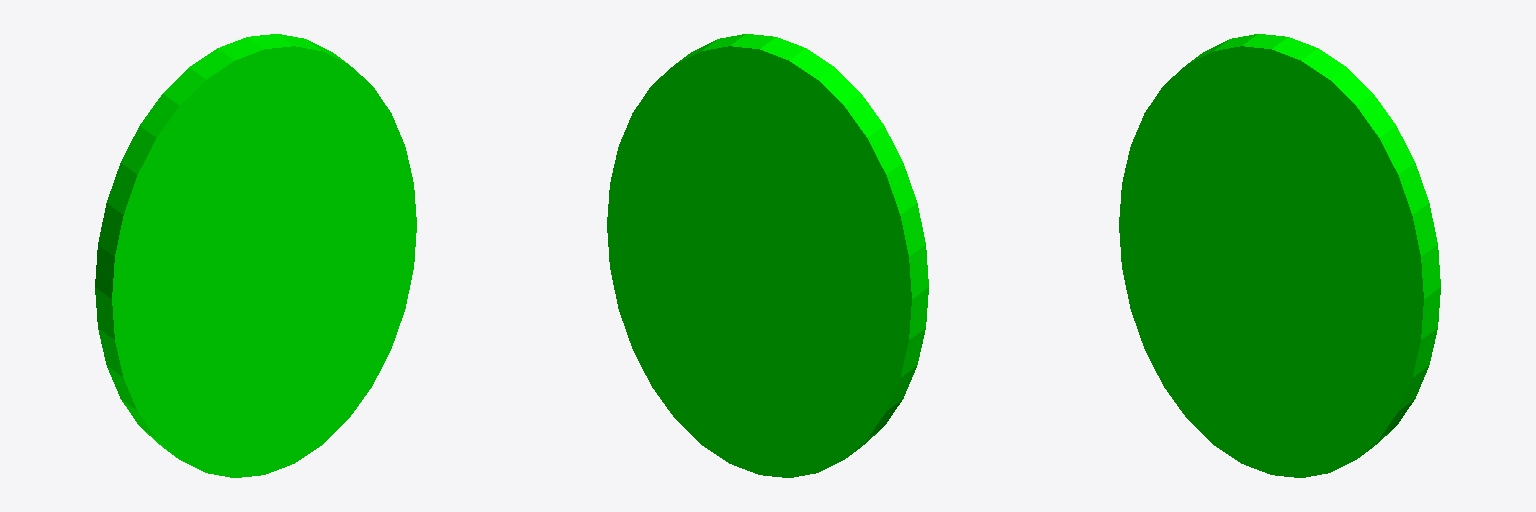
File: BGSpamton(F)(G2).obj
3 views of the same model, side by side, from view 1: azimuth 30°, elevation 25°; view 2: azimuth 150°, elevation 25°; view 3: azimuth 330°, elevation 25° (orthographic).
Visible parts, largest first — view 1: Circle.002; view 2: Circle.002; view 3: Circle.002.
Boxes of the visible parts, box(x1,y1,x2,y2) form: Circle.002: box(95, 34, 416, 477); Circle.002: box(607, 34, 928, 477); Circle.002: box(1119, 34, 1440, 477).
Size of the model in its own units: 0.2857 by 0.3811 by 0.0277.